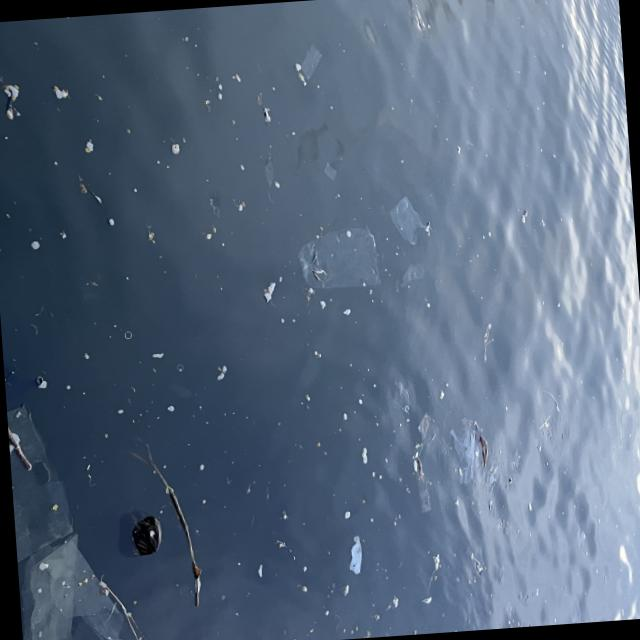plastic bag: (297, 226, 383, 291), (393, 193, 435, 248)
